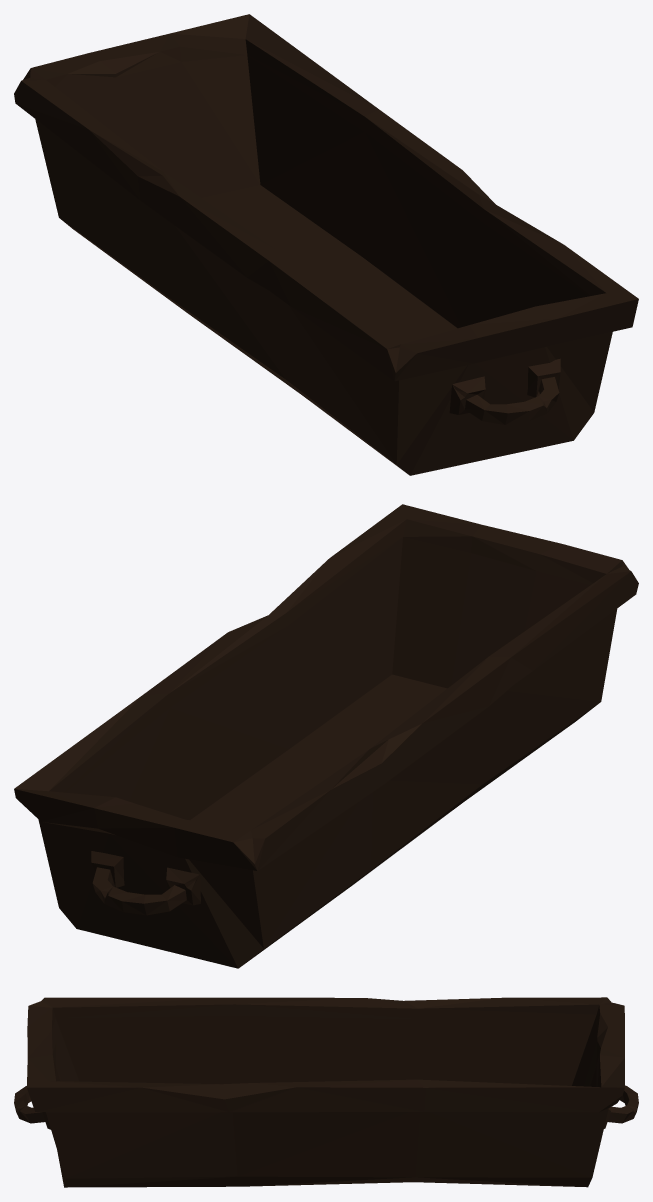
File: SFFA_Bucket_Empty_003.fbx
3 views of the same model, one above another, from view 1: azimuth 30°, elevation 25°; view 2: azimuth 150°, elevation 25°; view 3: azimuth 270°, elevation 25° (orthographic). The views are drawn at different scales.
Parts seen in each view (by area): view 1: SFFA_Bucket_Empty_003; view 2: SFFA_Bucket_Empty_003; view 3: SFFA_Bucket_Empty_003.
Boxes of the visible parts, x1,y1,x2,y2 form: SFFA_Bucket_Empty_003: [14, 14, 638, 475]; SFFA_Bucket_Empty_003: [14, 504, 638, 968]; SFFA_Bucket_Empty_003: [14, 997, 638, 1187].
Size of the model in its own units: 37.86 by 22.7 by 111.
